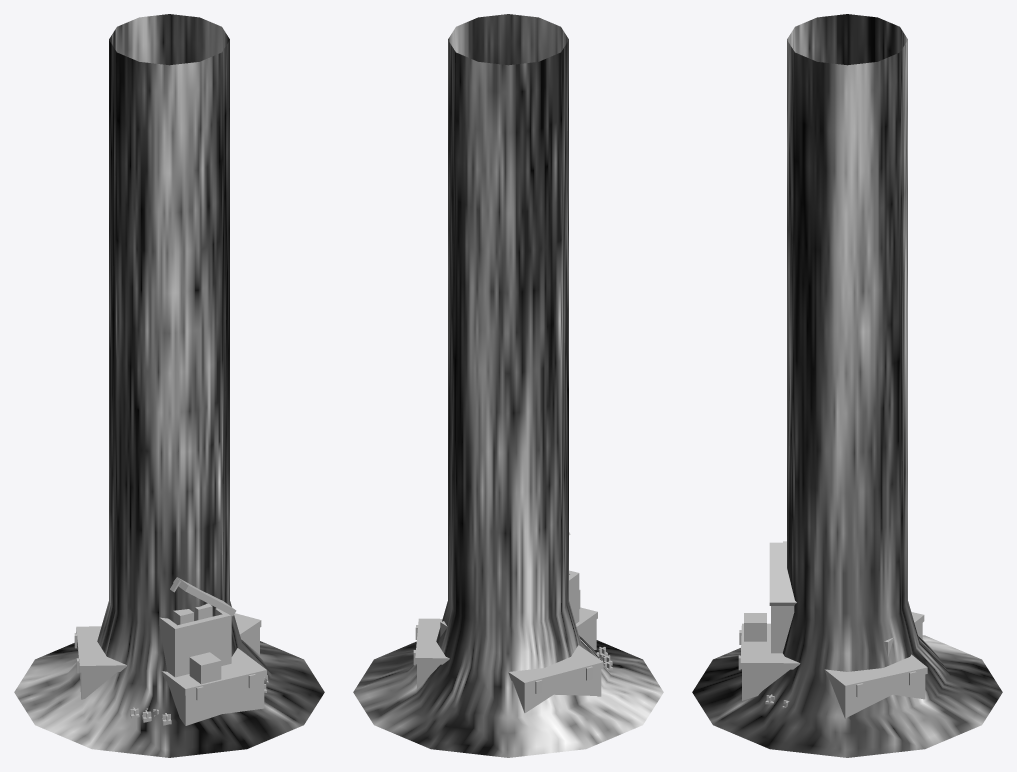
The model's file is Point_Ammo #688837.fbx.
The picture shows the model from 3 angles, left to right: view 1: azimuth 30°, elevation 25°; view 2: azimuth 150°, elevation 25°; view 3: azimuth 270°, elevation 25°; orthographic projection.
Parts seen in each view (by area): view 1: Funnel, Point_Ammo; view 2: Funnel, Point_Ammo; view 3: Funnel, Point_Ammo.
Boxes of the visible parts, x1=… form: Funnel: x1=14, y1=14, x2=324, y2=757; Point_Ammo: x1=74, y1=577, x2=268, y2=725; Funnel: x1=353, y1=14, x2=663, y2=757; Point_Ammo: x1=413, y1=532, x2=612, y2=713; Funnel: x1=692, y1=14, x2=1002, y2=757; Point_Ammo: x1=738, y1=541, x2=927, y2=718.
Bounding box in the file's own units: 3.57 × 8.36 × 3.57.
